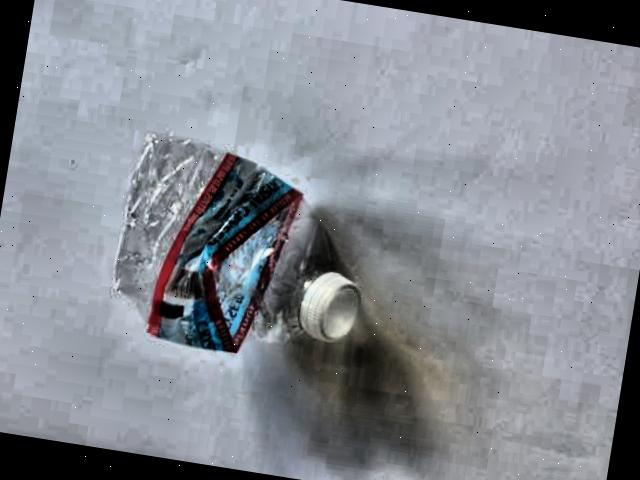Bottles: (105, 134, 348, 372)
